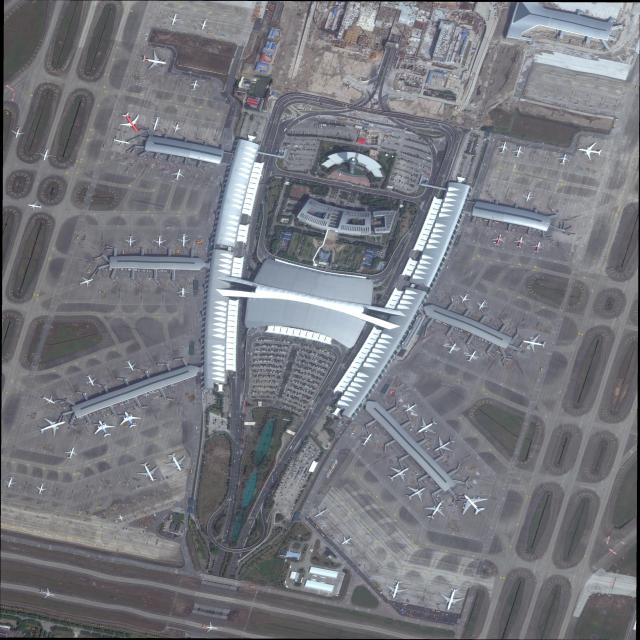plane: (455, 491, 490, 518), (36, 414, 69, 439), (436, 585, 466, 612), (114, 109, 145, 134), (383, 462, 415, 486), (421, 498, 451, 523), (428, 433, 458, 457), (411, 415, 442, 438), (133, 459, 162, 482), (139, 50, 167, 73), (520, 332, 549, 354), (401, 482, 430, 504), (578, 140, 605, 162), (163, 451, 190, 473), (115, 409, 144, 429), (384, 578, 410, 600), (92, 417, 119, 438), (462, 348, 482, 364), (442, 341, 462, 357), (519, 188, 538, 204), (473, 296, 492, 312), (168, 118, 185, 135), (120, 357, 138, 373), (112, 134, 131, 149), (357, 432, 376, 447), (312, 505, 331, 520), (62, 445, 80, 460), (9, 125, 27, 140), (38, 586, 56, 601), (455, 291, 474, 305), (165, 12, 184, 26), (169, 168, 186, 183), (148, 116, 165, 131), (529, 240, 546, 255), (37, 148, 55, 162), (402, 401, 420, 415), (494, 141, 512, 155), (489, 233, 507, 247), (510, 144, 526, 159), (512, 235, 529, 249), (339, 534, 356, 548), (39, 393, 57, 406), (201, 621, 219, 634), (82, 374, 99, 387), (196, 17, 213, 30), (77, 276, 95, 288), (33, 481, 48, 495), (555, 154, 572, 166), (2, 476, 19, 488), (26, 200, 43, 212), (152, 234, 166, 247), (187, 79, 201, 91), (177, 234, 190, 246), (123, 235, 137, 246), (176, 287, 190, 297), (115, 513, 126, 522)
